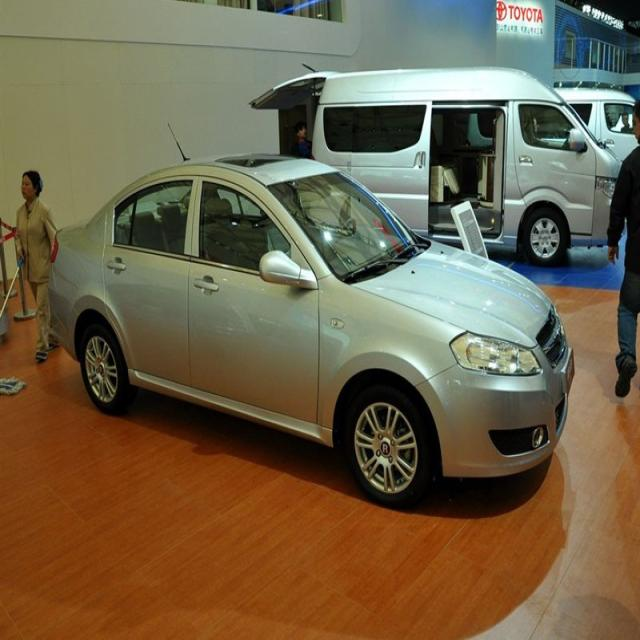door: (101, 175, 199, 395)
front_bumper: (417, 332, 578, 477)
front_glass: (266, 164, 420, 282)
front_right_side_door: (185, 168, 322, 430)
front_right_side_light: (448, 328, 542, 380)
front_right_side_mirror: (258, 248, 312, 290)
wheel: (349, 384, 427, 500), (79, 322, 128, 408)
